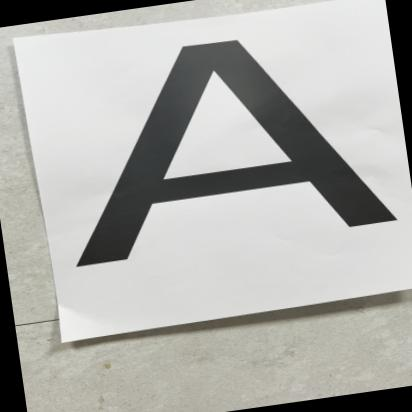seat: (6, 4, 412, 302)
